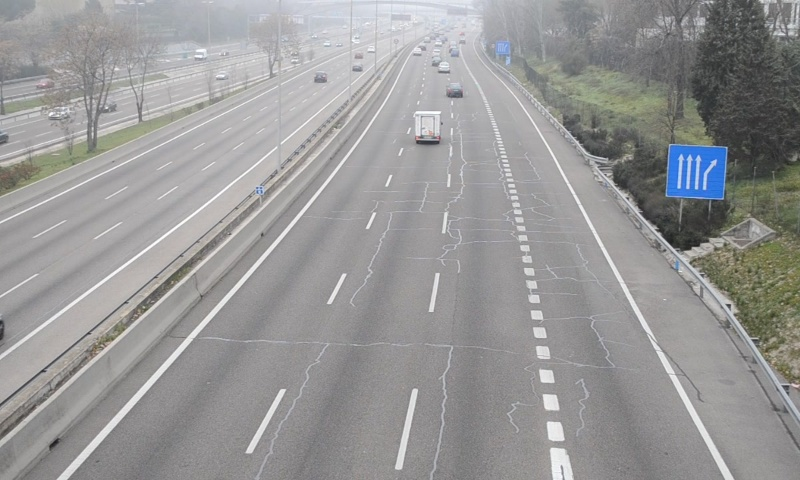car: (444, 81, 464, 98)
small-truck: (412, 110, 440, 142)
